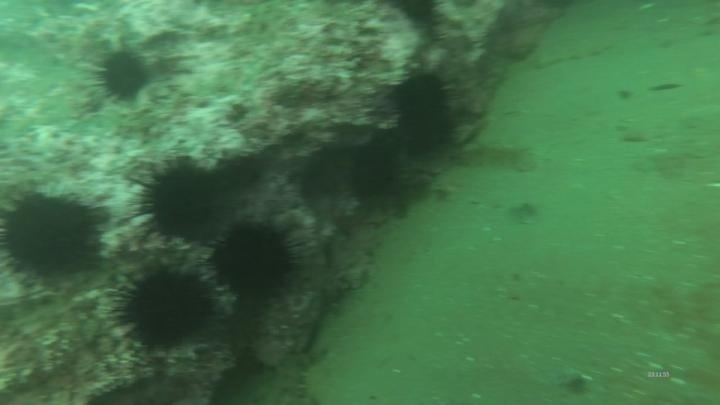echinus: (1, 185, 107, 286), (112, 263, 218, 352), (131, 156, 226, 245), (207, 217, 303, 305), (342, 139, 412, 211), (88, 44, 153, 106), (392, 106, 453, 155), (393, 71, 447, 113)
holothurian: (265, 349, 318, 405)
